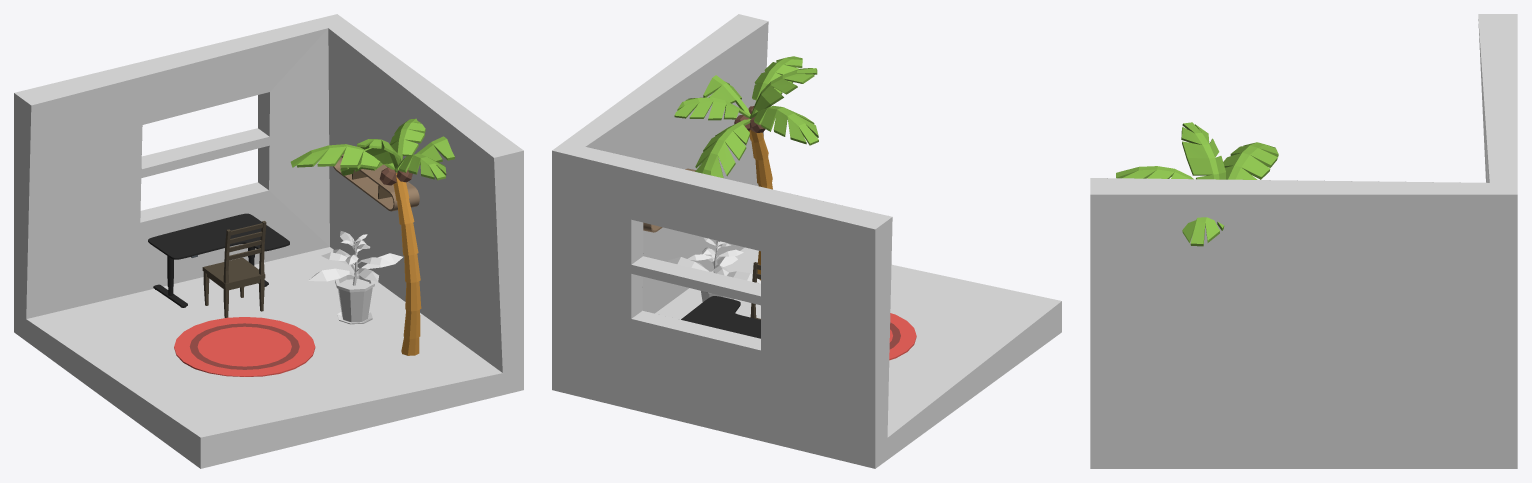
The picture shows the model from 3 angles, left to right: view 1: azimuth 30°, elevation 25°; view 2: azimuth 150°, elevation 25°; view 3: azimuth 270°, elevation 25°; orthographic projection. The views are drawn at different scales.
Parts seen in each view (by area): view 1: Plane, palm_tree_01, rugRound, Desk, Potted_Plant.000, Chair, SM_Shelf:SM_Shelf1; view 2: Plane, palm_tree_01, Desk, Potted_Plant.000, rugRound; view 3: Plane, palm_tree_01.
Part boxes in pixels (x1,y1,x2,y2): Plane: (14,14,523,468); palm_tree_01: (290,118,454,355); rugRound: (174,317,315,376); Desk: (148,213,289,307); Potted_Plant.000: (308,231,402,324); Chair: (202,221,266,317); SM_Shelf:SM_Shelf1: (333,146,419,211); Plane: (552,14,1061,468); palm_tree_01: (674,56,818,280); Desk: (681,296,760,338); Potted_Plant.000: (667,237,760,301); rugRound: (889,313,916,360); Plane: (1090,14,1517,468); palm_tree_01: (1116,122,1278,246).
Bounding box in the file's own units: 6.65 × 4.46 × 6.19.
